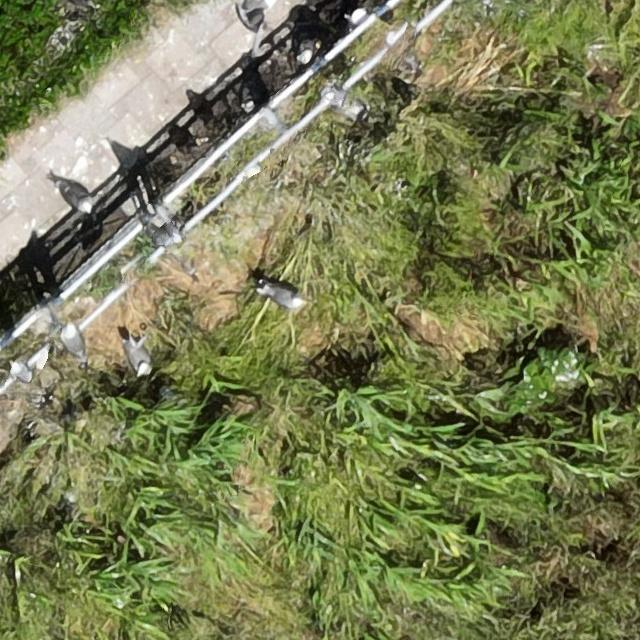umineko: (53, 174, 92, 217), (256, 280, 303, 311), (122, 334, 152, 380), (62, 324, 85, 359), (296, 26, 315, 65), (8, 362, 36, 387)
